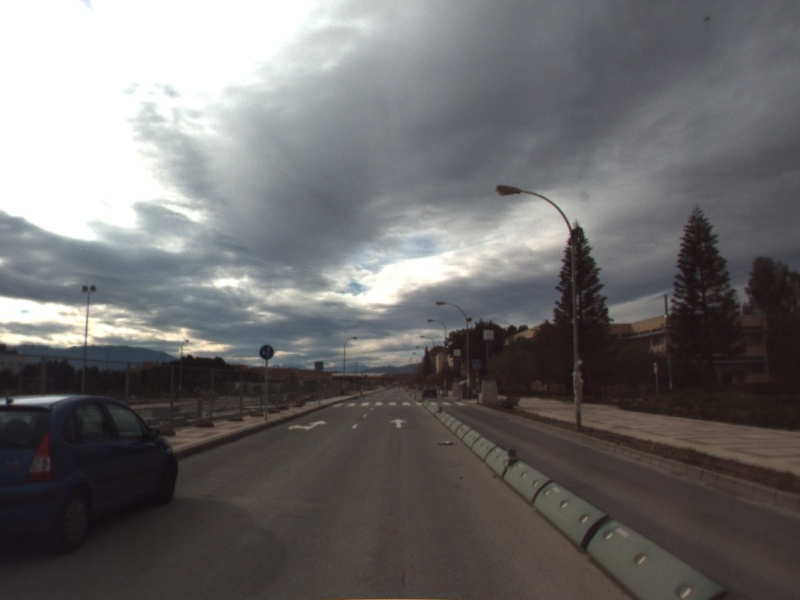STRAIGHT: (388, 416, 409, 430)
STRAIGHT_LEFT: (286, 418, 329, 433)
